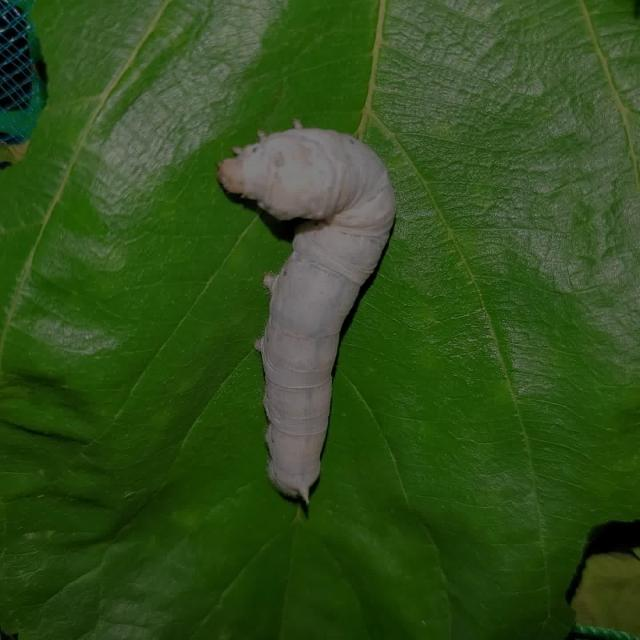Healthy: (209, 106, 409, 514)
